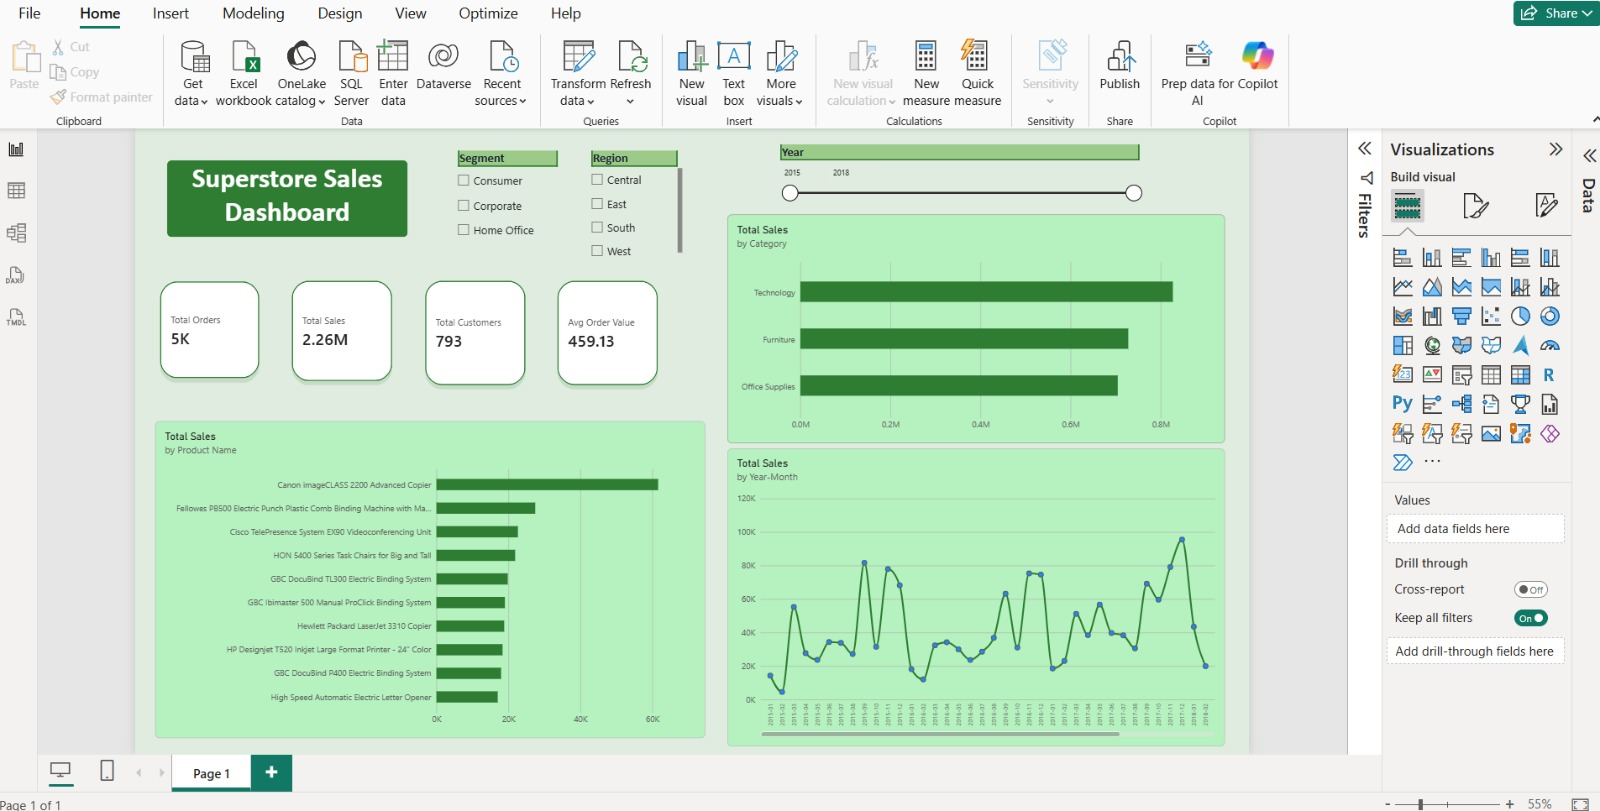

What the dashboard file says about the page in this screenshot:
{"tool":"powerbi","page":{"name":"Sales Overview","canvas":[1920,1080],"ordinal":0},"visuals":[{"type":"cardVisual","fields":{"Data":["train.Total Sales"]},"box":[261.8,255.2,217.2,188.2],"z":0},{"type":"cardVisual","fields":{"Data":["train.Total Orders"]},"box":[30.8,255.2,213.5,184.6],"z":1000},{"type":"cardVisual","fields":{"Data":["train.Total Customers"]},"box":[496.5,255.2,222.6,195.4],"z":2000},{"type":"cardVisual","fields":{"Data":["train.Avg Order Value"]},"box":[736.5,255.2,222.6,195.4],"z":3000},{"type":"lineChart","fields":{"Category":["DateTable.Year-Month"],"Y":["train.Total Sales"]},"box":[1020.6,551.9,857.8,513.9],"z":4000},{"type":"clusteredBarChart","fields":{"Category":["train.Category"],"Y":["train.Total Sales"]},"box":[1020.6,148.4,857.8,394.5],"z":5000},{"type":"clusteredBarChart","fields":{"Category":["train.Product Name"],"Y":["train.Total Sales"]},"box":[34.4,504.9,968.2,546.5],"z":6000},{"type":"slicer","fields":{"Values":["DateTable.Year"]},"box":[1103.9,27.1,651.5,191.8],"z":7000},{"type":"textbox","box":[30.8,50.7,461.5,115.8],"z":8000},{"type":"slicer","fields":{"Values":["train.Region"]},"box":[778.2,38,164.7,188.2],"z":9000},{"type":"slicer","fields":{"Values":["train.Segment"]},"box":[548.3,38,188.2,182.8],"z":10000}]}

Visuals, with their boxes on the page's 1920x1080 design canvas (x1, y1, x2, y2). These are canvas units, not pixel positions in the 1600x811 screenshot, which may show the page scaled, cropped or inside an application window:
cardVisual - train.Total Sales: (262, 255, 479, 443)
cardVisual - train.Total Orders: (31, 255, 244, 440)
cardVisual - train.Total Customers: (496, 255, 719, 451)
cardVisual - train.Avg Order Value: (736, 255, 959, 451)
lineChart - DateTable.Year-Month x train.Total Sales: (1021, 552, 1878, 1066)
clusteredBarChart - train.Category x train.Total Sales: (1021, 148, 1878, 543)
clusteredBarChart - train.Product Name x train.Total Sales: (34, 505, 1003, 1051)
slicer - DateTable.Year: (1104, 27, 1755, 219)
textbox: (31, 51, 492, 166)
slicer - train.Region: (778, 38, 943, 226)
slicer - train.Segment: (548, 38, 736, 221)
